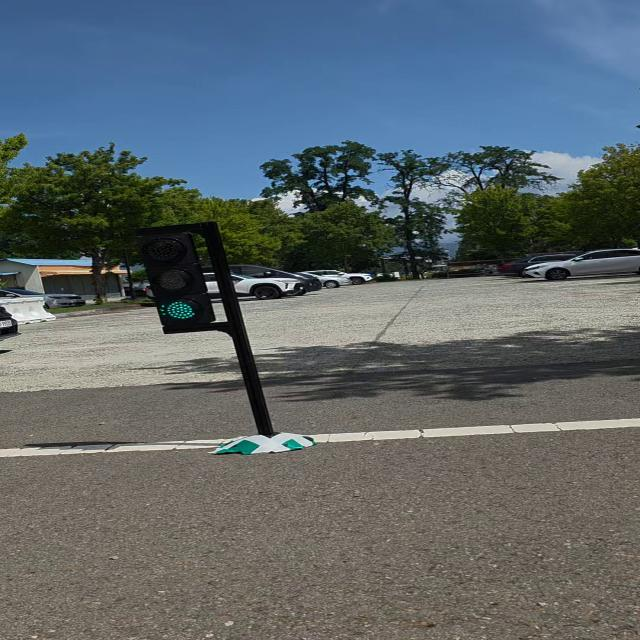green: (130, 230, 220, 328)
